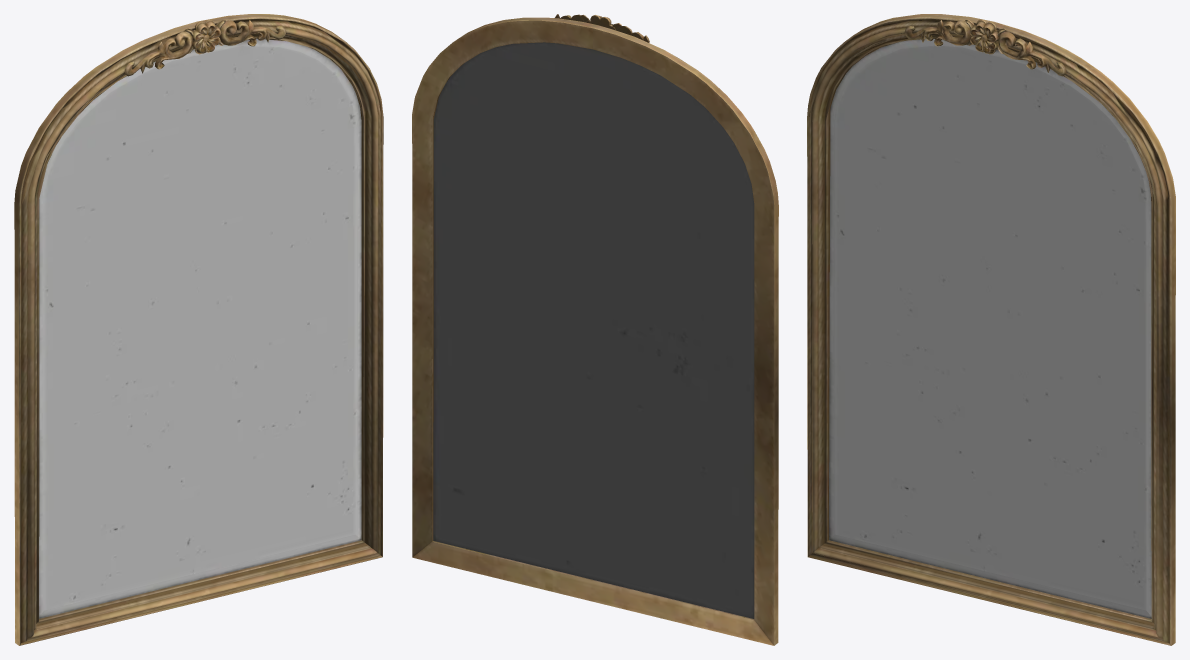
Rendered from mirror.glb.
The picture shows the model from 3 angles, left to right: view 1: azimuth 30°, elevation 25°; view 2: azimuth 150°, elevation 25°; view 3: azimuth 330°, elevation 25°; orthographic projection.
Parts seen in each view (by area): view 1: ornate_mirror_01; view 2: ornate_mirror_01; view 3: ornate_mirror_01.
Part boxes in pixels (<box>): ornate_mirror_01: <box>14,14,383,645</box>; ornate_mirror_01: <box>412,14,778,645</box>; ornate_mirror_01: <box>807,14,1175,645</box>.
Bounding box in the file's own units: 0.4865 × 0.7437 × 0.026.
1 material, 1 textured.
